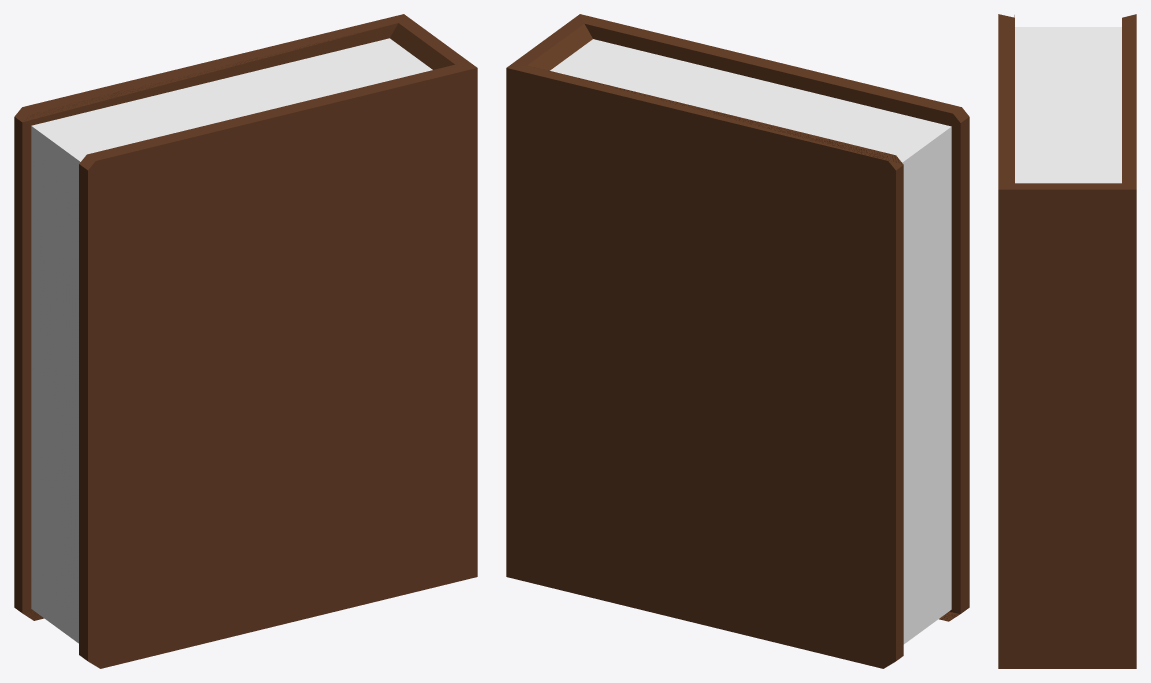
File: book03.obj
The picture shows the model from 3 angles, left to right: view 1: azimuth 30°, elevation 25°; view 2: azimuth 150°, elevation 25°; view 3: azimuth 270°, elevation 25°; orthographic projection. The views are drawn at different scales.
Visible parts, largest first — view 1: Cube.001_Cube.004; view 2: Cube.001_Cube.004; view 3: Cube.001_Cube.004.
Part boxes in pixels (<box>): Cube.001_Cube.004: <box>14,14,477,668</box>; Cube.001_Cube.004: <box>506,14,969,668</box>; Cube.001_Cube.004: <box>998,14,1136,668</box>.
Size of the model in its own units: 0.1678 by 0.2095 by 0.0549.
